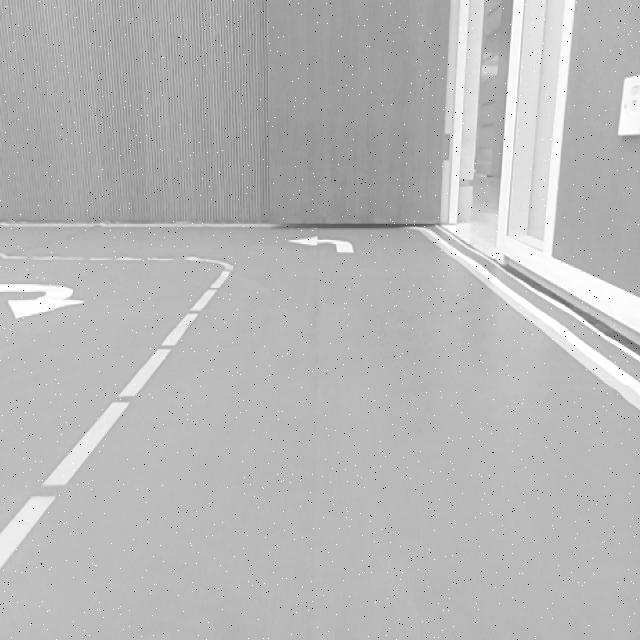left_lane: (0, 268, 231, 568)
right_lane: (421, 229, 640, 414)
